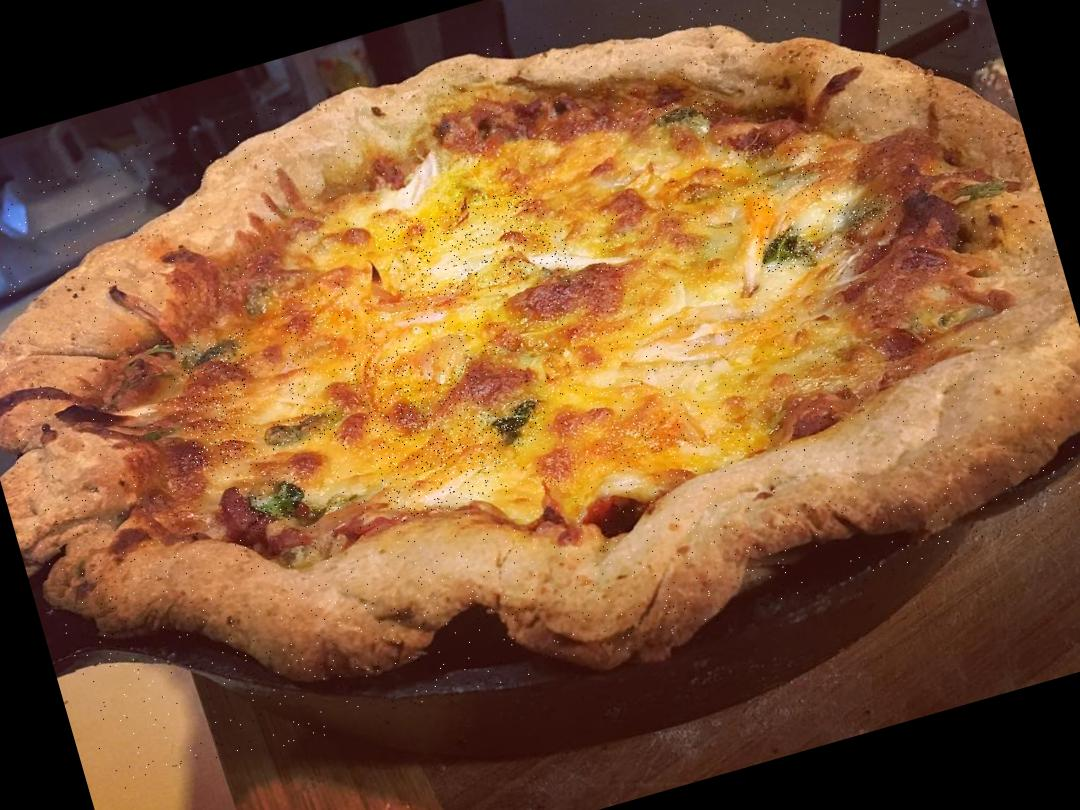Basil: (815, 186, 914, 255), (918, 158, 1010, 226), (753, 218, 840, 279), (232, 470, 312, 534), (260, 401, 346, 456), (174, 330, 254, 386), (488, 393, 555, 452), (646, 90, 722, 136)
Cheese: (540, 308, 742, 488), (348, 331, 512, 524), (382, 178, 576, 312), (586, 174, 735, 336), (712, 280, 858, 413), (268, 273, 391, 404), (527, 120, 665, 232), (702, 126, 838, 227), (397, 286, 520, 378), (173, 379, 268, 479)
Pizza: (0, 0, 1080, 796)
